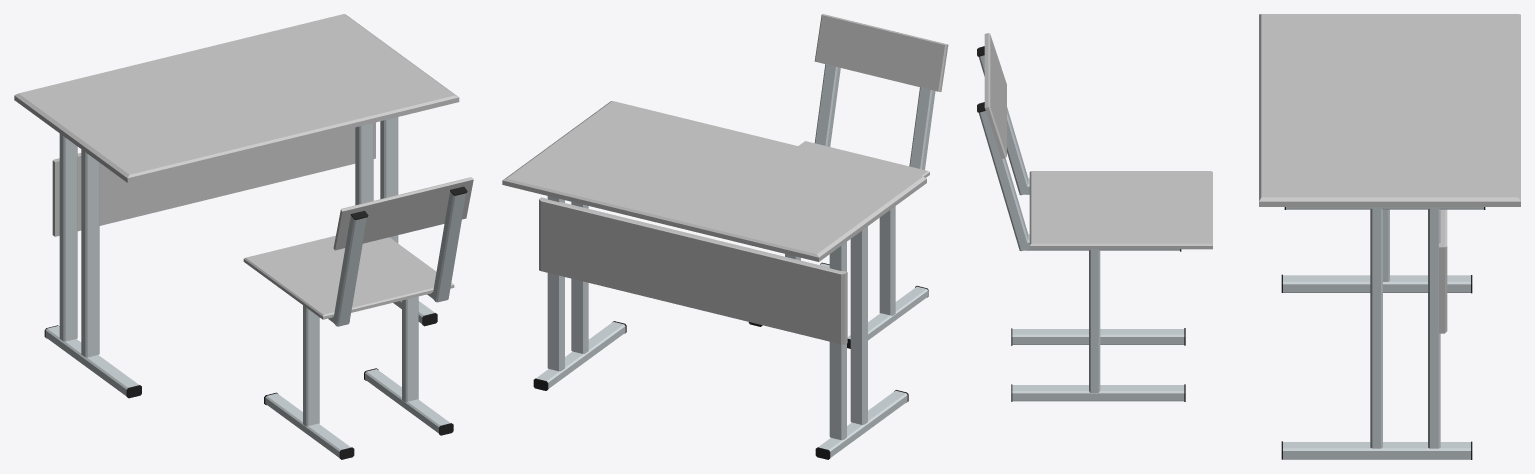
Rendered from ChairTable_Collider.fbx.
3 renders of one model, left to right at view 1: azimuth 30°, elevation 25°; view 2: azimuth 150°, elevation 25°; view 3: azimuth 270°, elevation 25°, orthographic. The views are drawn at different scales.
Visible parts, largest first — view 1: ChairTable_Collider; view 2: ChairTable_Collider; view 3: ChairTable_Collider.
Part boxes in pixels (x1,y1,x2,y2): ChairTable_Collider: [14, 14, 473, 459]; ChairTable_Collider: [502, 14, 948, 459]; ChairTable_Collider: [977, 14, 1520, 459].
Size of the model in its own units: 180 by 136 by 221.
